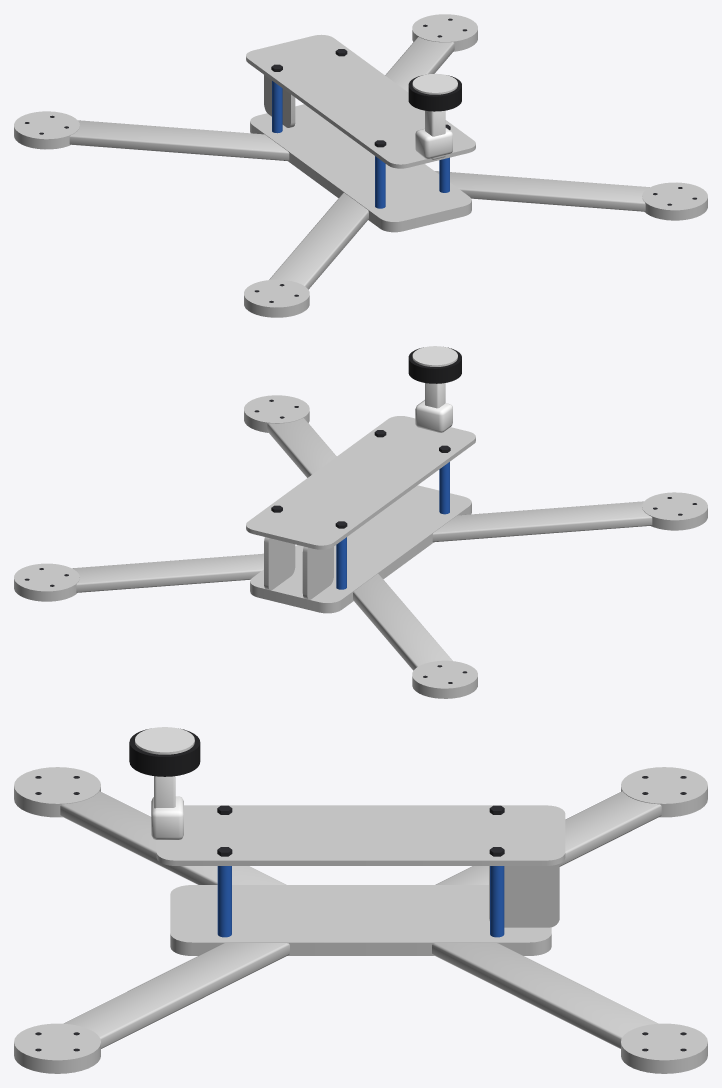
File: frame_albatros7.glb
3 views of the same model, one above another, from view 1: azimuth 30°, elevation 25°; view 2: azimuth 150°, elevation 25°; view 3: azimuth 270°, elevation 25° (orthographic). The views are drawn at different scales.
Parts seen in each view (by area): view 1: frame_albatros7_T_carbon, frame_albatros7_M_Standoff_albatros7, frame_albatros7_T_tpu, frame_albatros7_M_GPS, frame_albatros7_M_Label; view 2: frame_albatros7_T_carbon, frame_albatros7_T_tpu, frame_albatros7_M_Standoff_albatros7, frame_albatros7_M_GPS, frame_albatros7_M_Label; view 3: frame_albatros7_T_carbon, frame_albatros7_M_Standoff_albatros7, frame_albatros7_T_tpu, frame_albatros7_M_GPS, frame_albatros7_M_Label, frame_albatros7_M_Bolt.
Part boxes in pixels (box(x1,y1,x2,y2)): frame_albatros7_T_carbon: box(14, 14, 707, 317); frame_albatros7_M_Standoff_albatros7: box(272, 81, 449, 208); frame_albatros7_T_tpu: box(415, 110, 452, 159); frame_albatros7_M_GPS: box(408, 75, 461, 111); frame_albatros7_M_Label: box(412, 73, 457, 94); frame_albatros7_T_carbon: box(14, 395, 707, 698); frame_albatros7_T_tpu: box(415, 383, 452, 432); frame_albatros7_M_Standoff_albatros7: box(336, 462, 449, 589); frame_albatros7_M_GPS: box(408, 347, 461, 383); frame_albatros7_M_Label: box(412, 346, 457, 366); frame_albatros7_T_carbon: box(14, 767, 707, 1073); frame_albatros7_M_Standoff_albatros7: box(217, 866, 504, 937); frame_albatros7_T_tpu: box(151, 776, 183, 839); frame_albatros7_M_GPS: box(129, 728, 200, 776); frame_albatros7_M_Label: box(135, 727, 194, 754); frame_albatros7_M_Bolt: box(35, 776, 686, 1051).
Size of the model in its own units: 0.2548 by 0.0776 by 0.2548.
